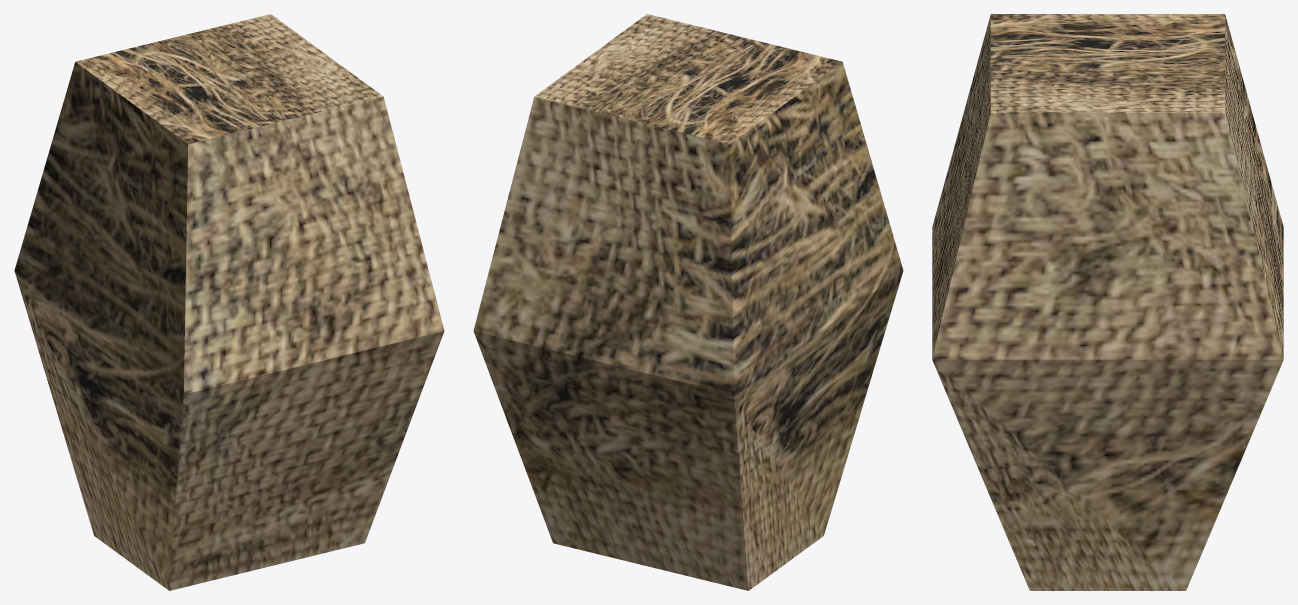
The model's file is zombiebody.obj.
3 renders of one model, left to right at view 1: azimuth 30°, elevation 25°; view 2: azimuth 150°, elevation 25°; view 3: azimuth 270°, elevation 25°, orthographic. The views are drawn at different scales.
Parts seen in each view (by area): view 1: Cube_Cube.001; view 2: Cube_Cube.001; view 3: Cube_Cube.001.
Boxes of the visible parts, x1,y1,x2,y2 form: Cube_Cube.001: (14, 14, 444, 590); Cube_Cube.001: (473, 14, 903, 590); Cube_Cube.001: (932, 14, 1283, 590).
Bounding box in the file's own units: 1.6 × 2.7 × 1.8.
